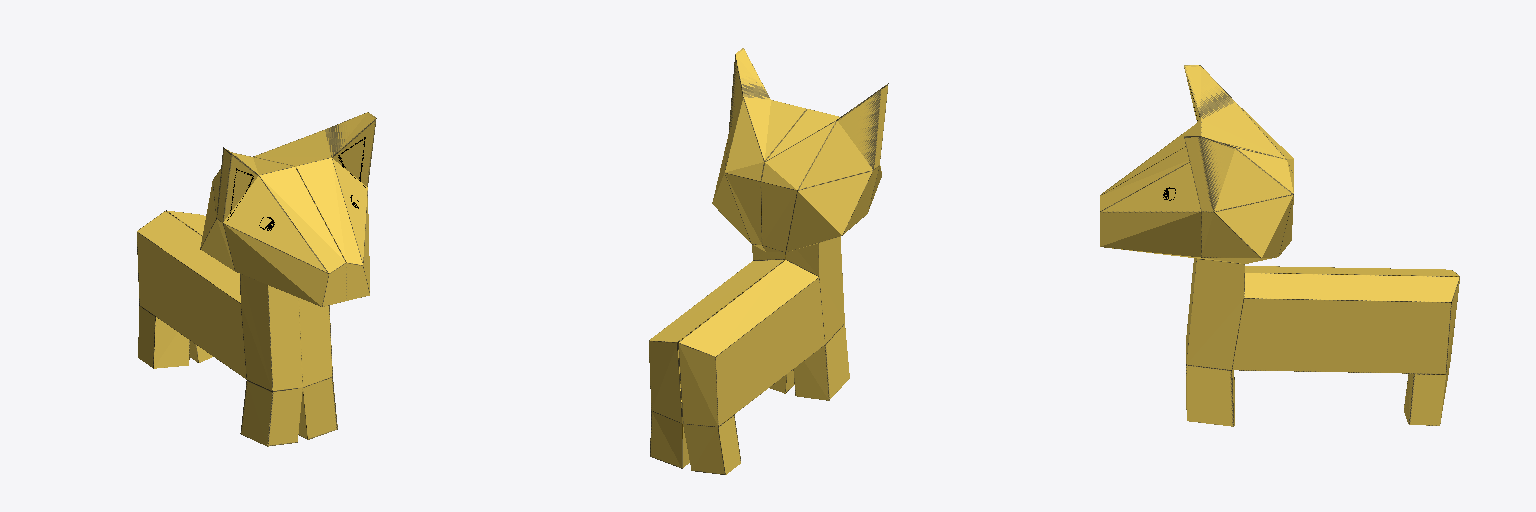
The picture shows the model from 3 angles: view 1: azimuth 30°, elevation 25°; view 2: azimuth 150°, elevation 25°; view 3: azimuth 270°, elevation 25°; orthographic projection.
Parts seen in each view (by area): view 1: Cube; view 2: Cube; view 3: Cube.
Part boxes in pixels (x1,y1,x2,y2): Cube: (137,112,376,446); Cube: (649,48,888,474); Cube: (1100,65,1459,426).
Size of the model in its own units: 0.2483 by 0.5088 by 0.535.
1 materials, 1 textured.